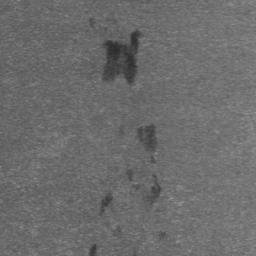Iron scale compression: (102, 28, 143, 85), (138, 124, 157, 164), (147, 176, 161, 206), (101, 192, 113, 215), (88, 244, 97, 256), (114, 225, 122, 237), (159, 232, 166, 241), (127, 173, 133, 182)
